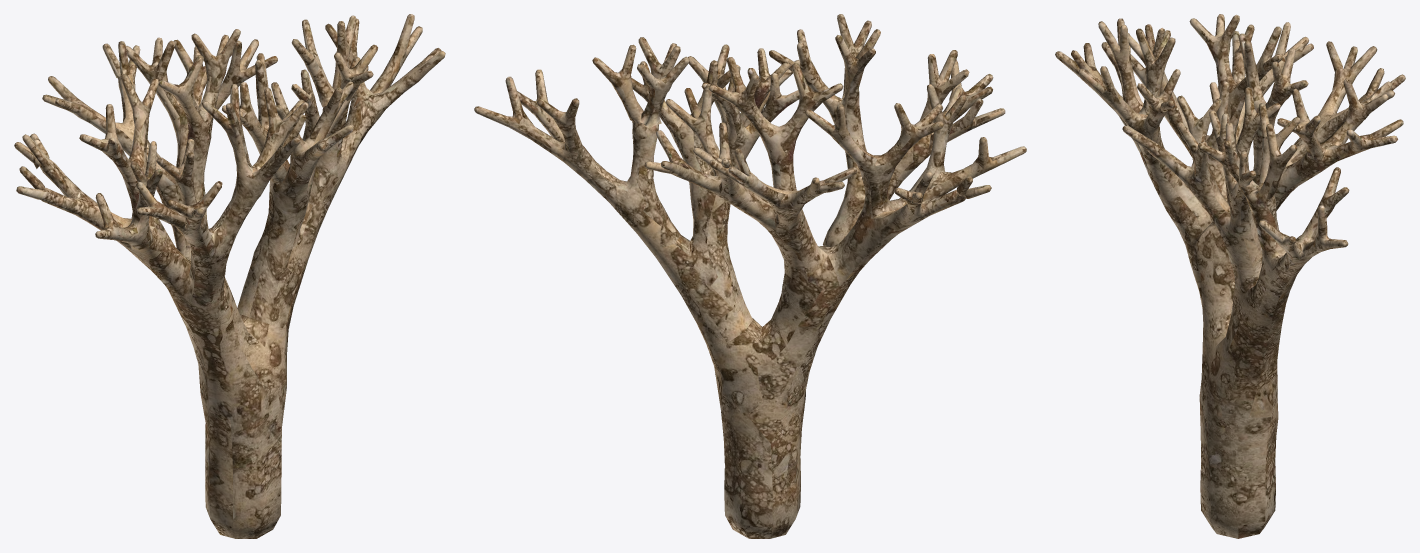
File: coral_tree_b.glb
3 views of the same model, side by side, from view 1: azimuth 30°, elevation 25°; view 2: azimuth 150°, elevation 25°; view 3: azimuth 270°, elevation 25° (orthographic). The views are drawn at different scales.
Parts seen in each view (by area): view 1: coral_tree_b; view 2: coral_tree_b; view 3: coral_tree_b.
Part boxes in pixels (x1,y1,x2,y2): coral_tree_b: (14, 14, 445, 538); coral_tree_b: (474, 14, 1026, 538); coral_tree_b: (1055, 14, 1405, 538).
Size of the model in its own units: 7.4 by 7.5 by 4.98.
1 material, 1 textured.
